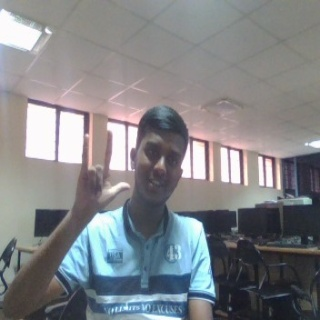Face: (130, 104, 190, 206)
I Love You: (74, 127, 133, 218)
